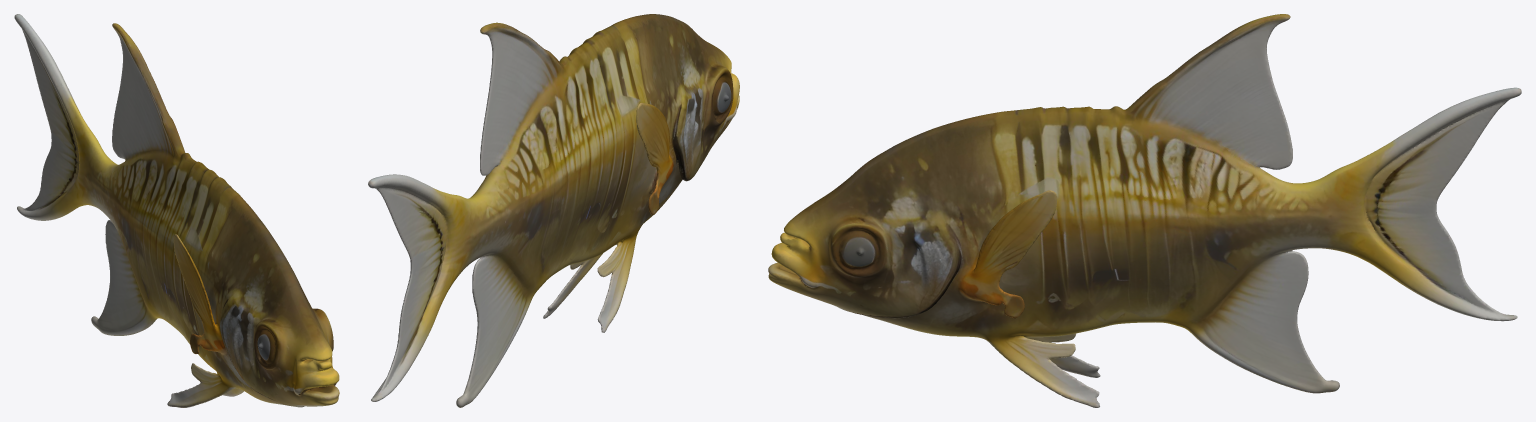
File: fish_swallowtail.glb
3 views of the same model, side by side, from view 1: azimuth 30°, elevation 25°; view 2: azimuth 150°, elevation 25°; view 3: azimuth 270°, elevation 25° (orthographic). The views are drawn at different scales.
Visible parts, largest first — view 1: tripo_node_b7ee1a42-14b4-4b22-8008-c2796589087f; view 2: tripo_node_b7ee1a42-14b4-4b22-8008-c2796589087f; view 3: tripo_node_b7ee1a42-14b4-4b22-8008-c2796589087f.
Part boxes in pixels (x1,y1,x2,y2): tripo_node_b7ee1a42-14b4-4b22-8008-c2796589087f: (14,14,339,407); tripo_node_b7ee1a42-14b4-4b22-8008-c2796589087f: (368,14,739,407); tripo_node_b7ee1a42-14b4-4b22-8008-c2796589087f: (768,14,1521,407).
Bounding box in the file's own units: 0.1413 × 0.5544 × 1.
Materials: 1 (1 with a texture image).
